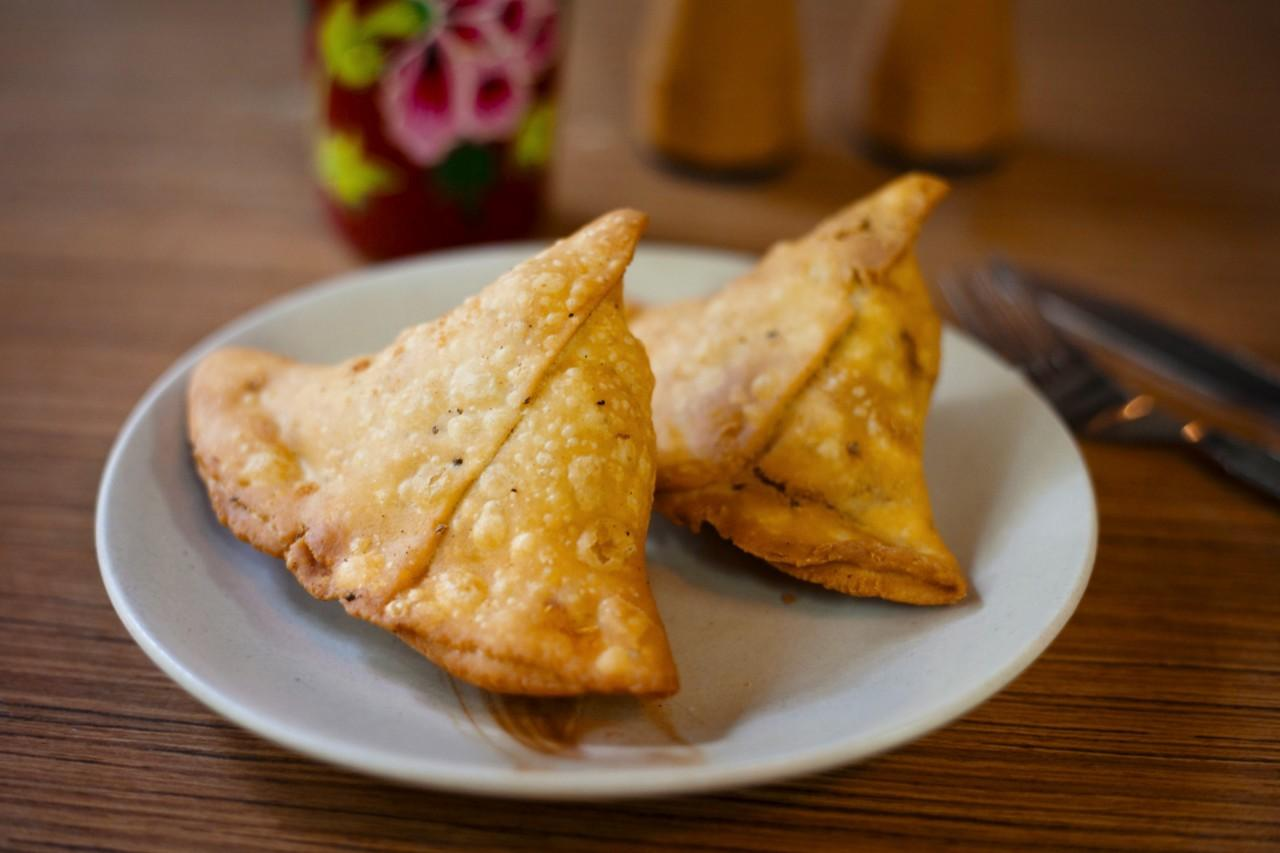Samosa: (185, 205, 678, 706), (653, 169, 975, 614)
